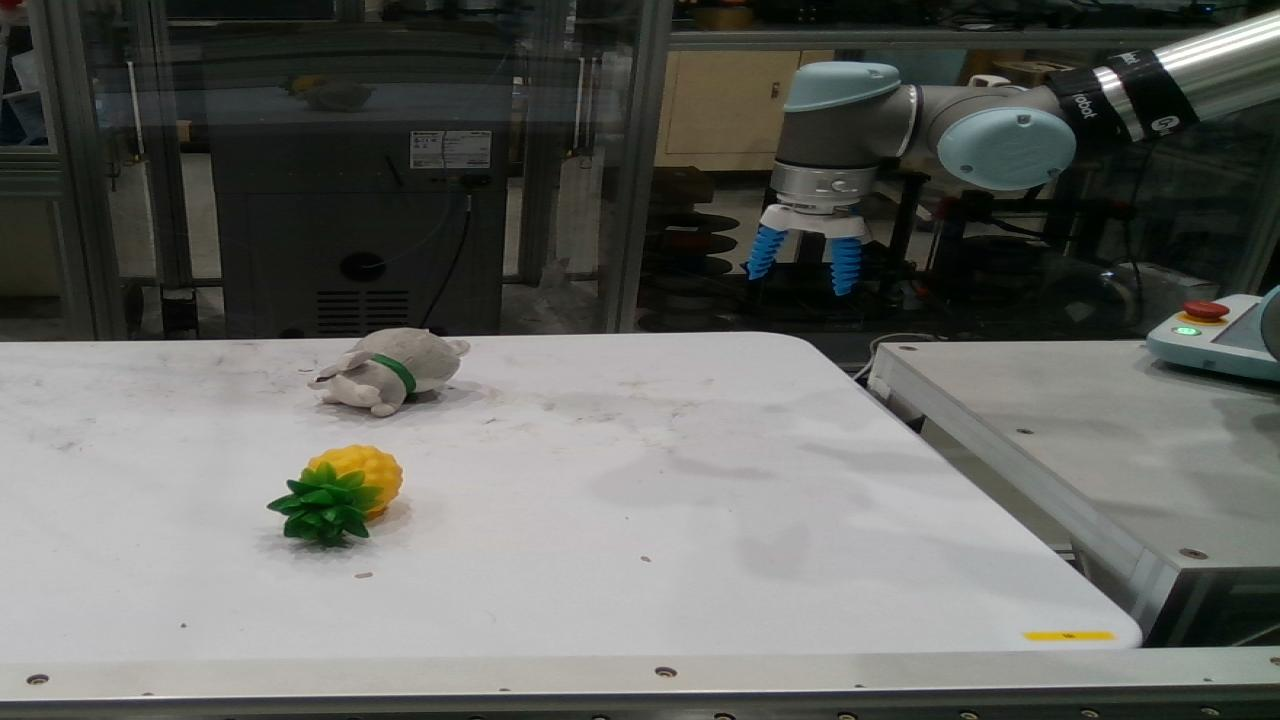UR5: (761, 11, 1279, 236), (1146, 286, 1279, 381)
gripper_left: (746, 225, 785, 280)
gripper_right: (831, 237, 861, 295)
target: (310, 328, 468, 416), (268, 446, 400, 547)
